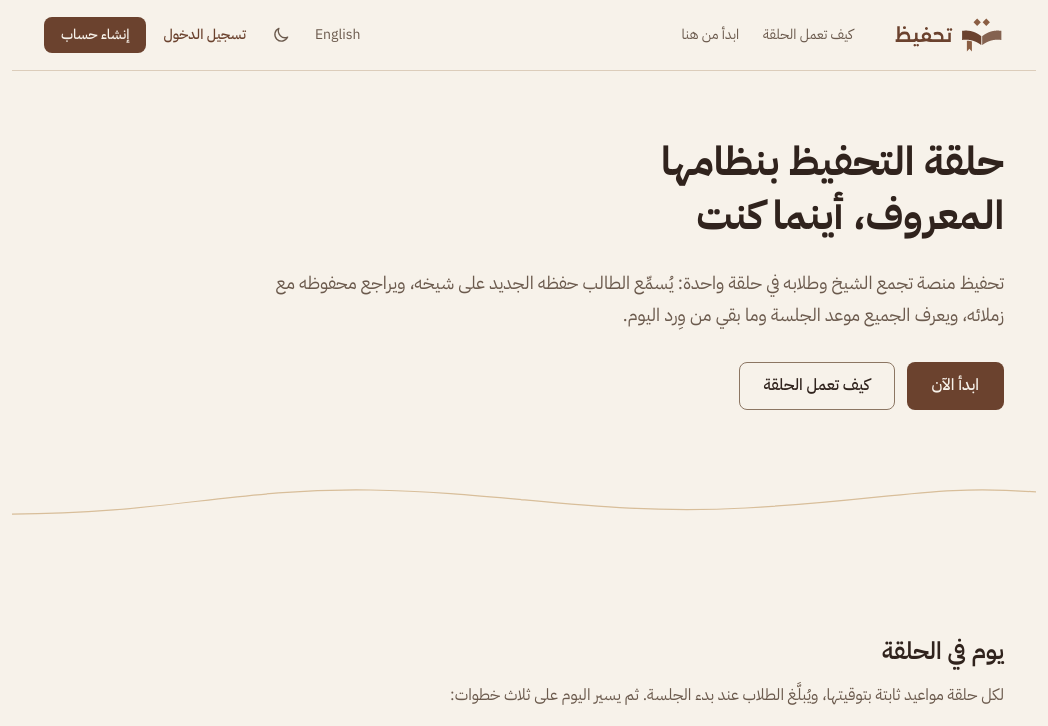
Test: language and direction › switches to English left-to-right and remembers the choice
Step 1. Click the button with aria-label "Switch to English" → (338, 35), box [303,17,372,53]
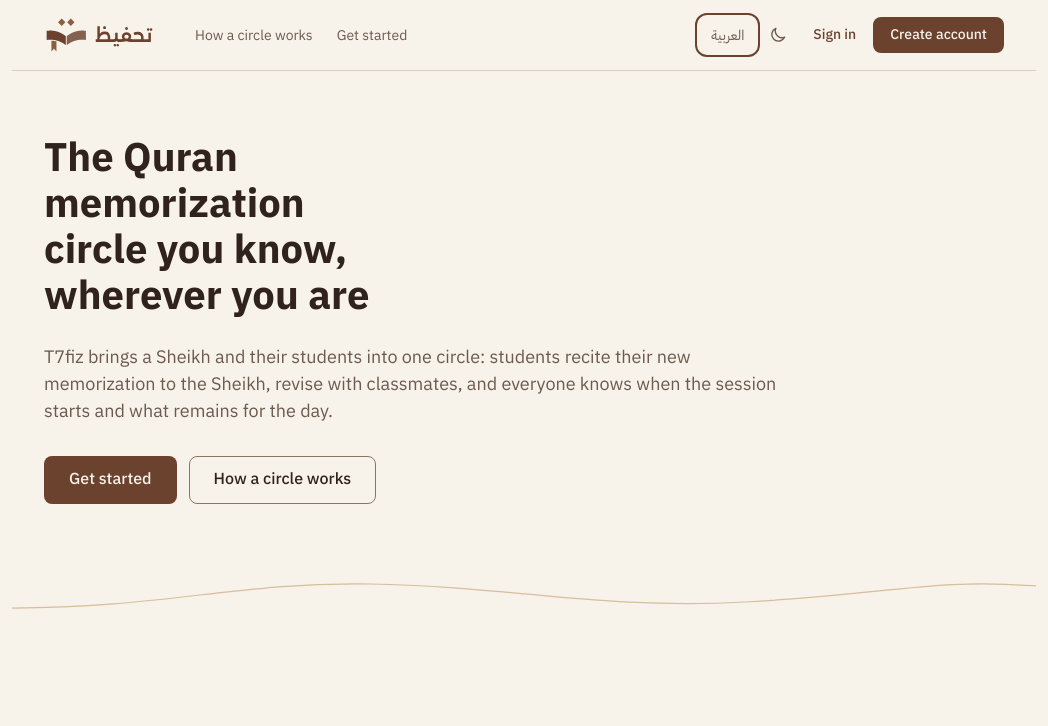
Now the heading "The Quran memorization circle you know, wherever you are" is shown, box [44,128,369,326]
